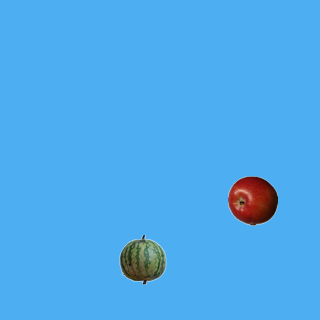Apple Braeburn: (227, 175, 277, 225)
Watermelon: (117, 234, 167, 284)
